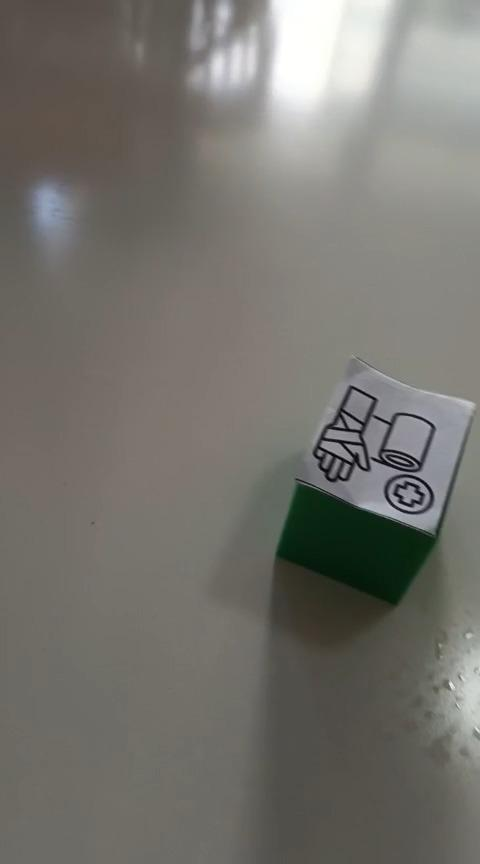Bandages: (274, 353, 476, 606)
